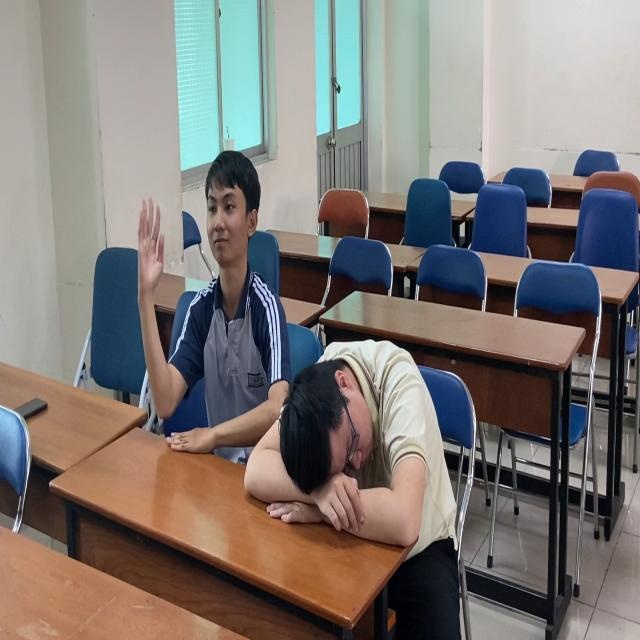raise_hand: (127, 151, 271, 461)
sleep: (243, 330, 440, 559)
